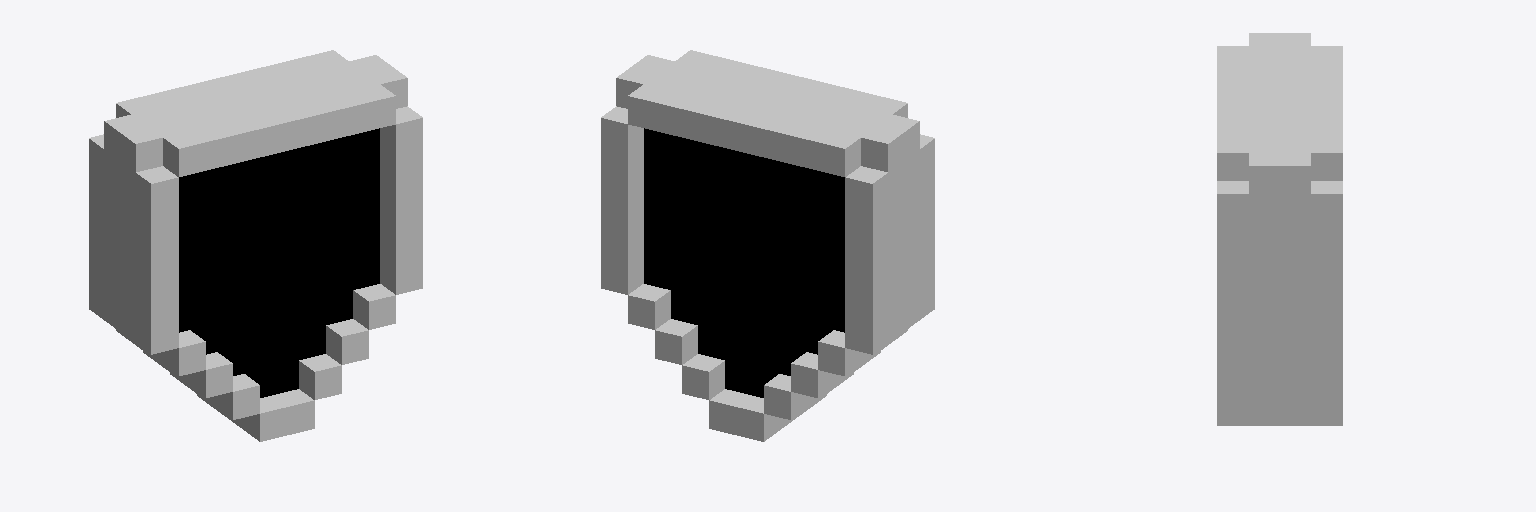
3 renders of one model, left to right at view 1: azimuth 30°, elevation 25°; view 2: azimuth 150°, elevation 25°; view 3: azimuth 270°, elevation 25°, orthographic.
Visible parts, largest first — view 1: object 1; view 2: object 1; view 3: object 1.
Boxes of the visible parts, x1=… form: object 1: x1=89, y1=50, x2=422, y2=441; object 1: x1=601, y1=50, x2=934, y2=441; object 1: x1=1217, y1=33, x2=1342, y2=425.
Bounding box in the file's own units: 1 × 1.1 × 0.4.
1 materials, 1 textured.